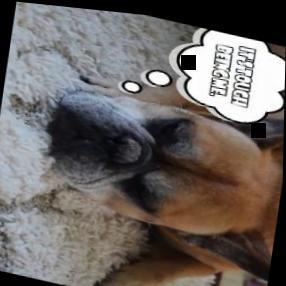keratosis: (110, 125, 147, 168)
